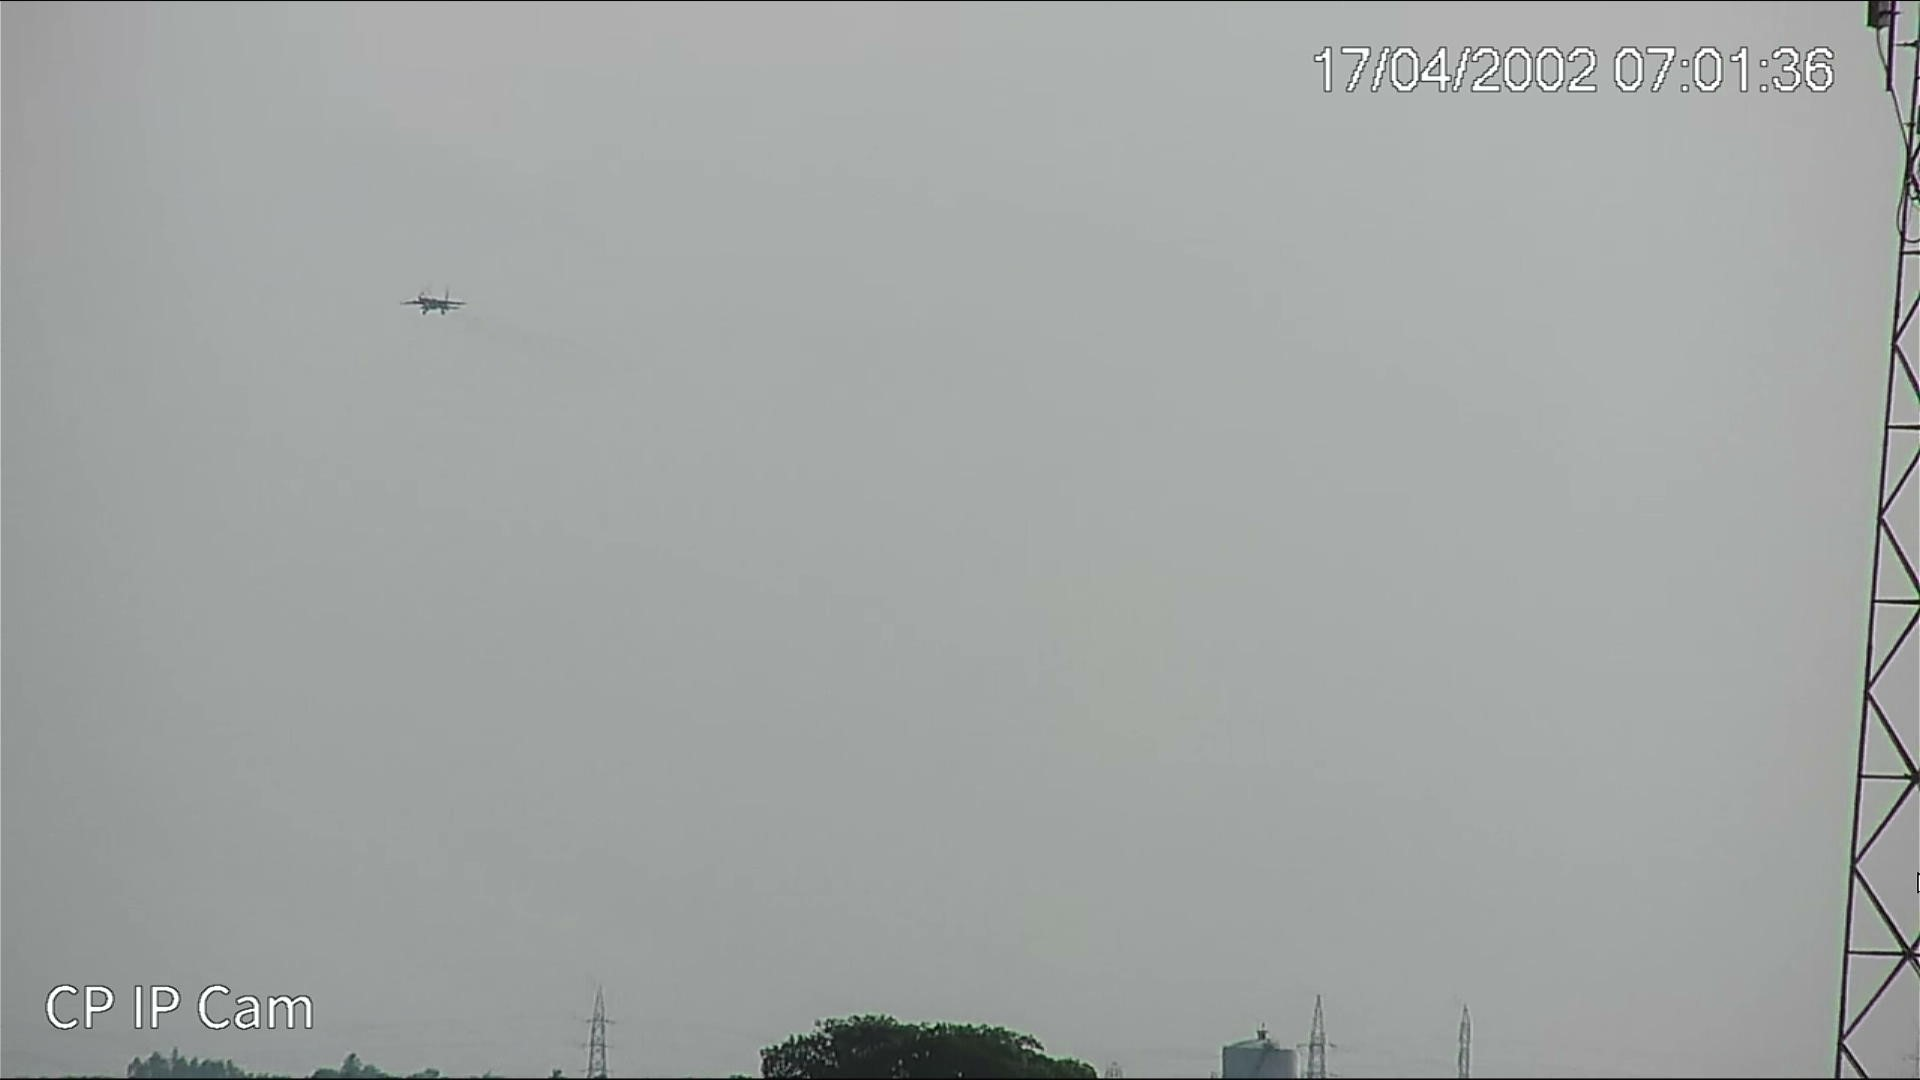SU_30: (400, 286, 467, 315)
